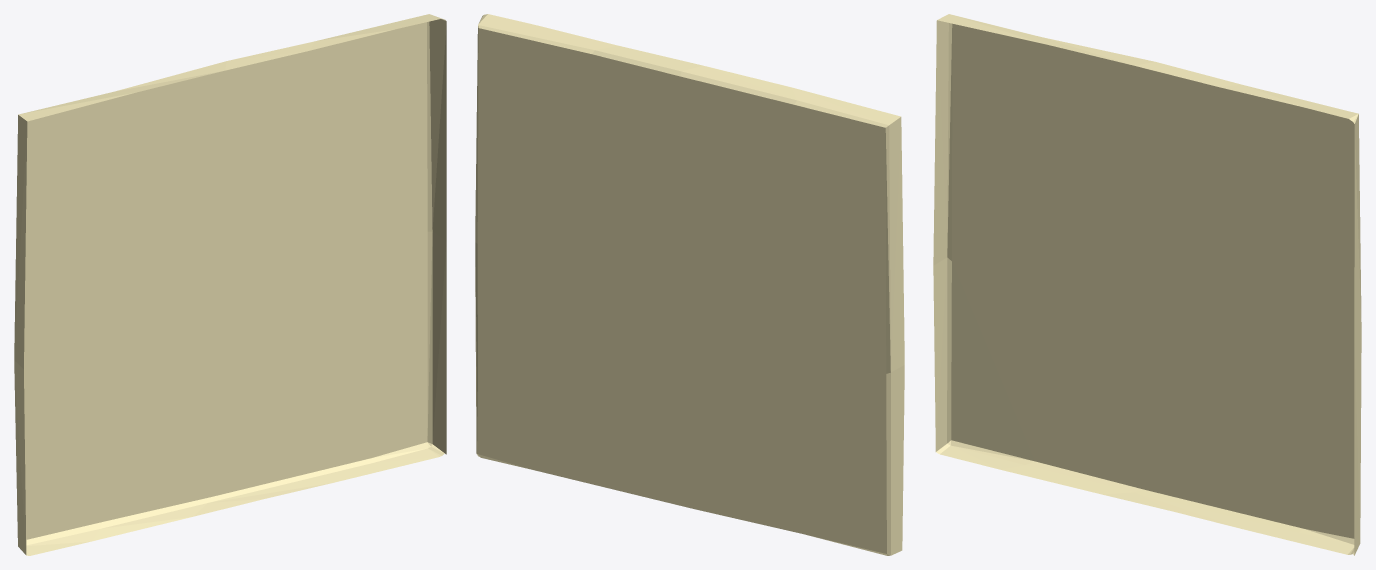
The model's file is ui_inset_favor_1x1.glb.
The picture shows the model from 3 angles, left to right: view 1: azimuth 30°, elevation 25°; view 2: azimuth 150°, elevation 25°; view 3: azimuth 330°, elevation 25°; orthographic projection.
Parts seen in each view (by area): view 1: Cube; view 2: Cube; view 3: Cube.
Part boxes in pixels (x1,y1,x2,y2): Cube: (14, 14, 446, 555); Cube: (475, 14, 904, 555); Cube: (933, 14, 1361, 555).
Size of the model in its own units: 2.01 by 2 by 0.0977.
